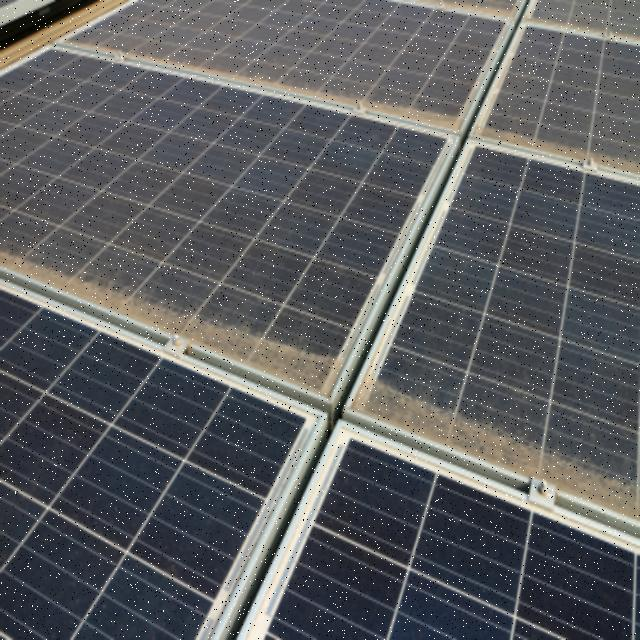dusty: (4, 240, 632, 519), (54, 36, 640, 197)
